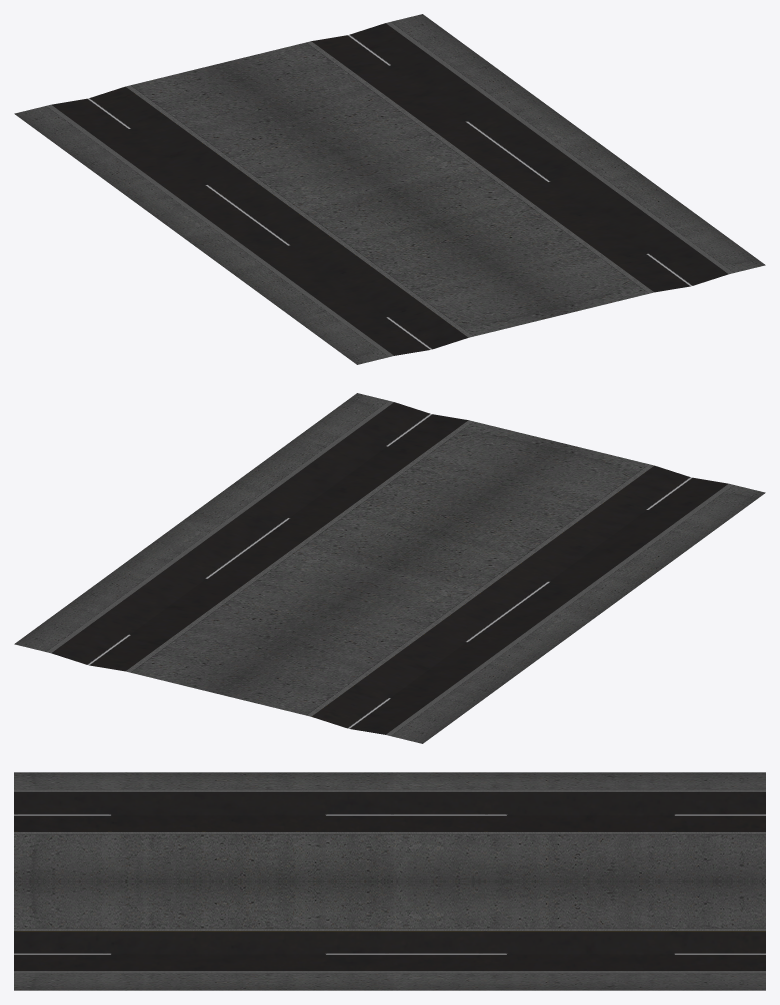
The model's file is RJs_Road Pass 2+4+2 Basic Segment_C_lod.fbx.
3 views of the same model, one above another, from view 1: azimuth 30°, elevation 25°; view 2: azimuth 150°, elevation 25°; view 3: azimuth 270°, elevation 25° (orthographic). The views are drawn at different scales.
Visible parts, largest first — view 1: plane_lod; view 2: plane_lod; view 3: plane_lod.
Boxes of the visible parts, left/top/right/bottom form: plane_lod: left=14, top=14, right=765, bottom=364; plane_lod: left=14, top=393, right=765, bottom=743; plane_lod: left=14, top=772, right=765, bottom=990.
Bounding box in the file's own units: 4400 × 30 × 6400.
